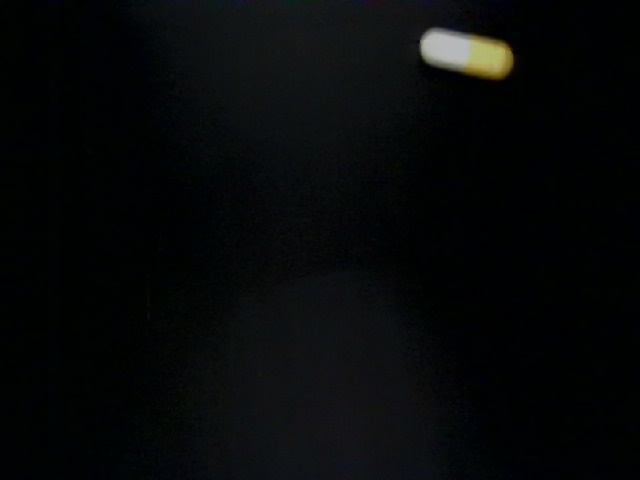YHLJ: (128, 306, 375, 381)
